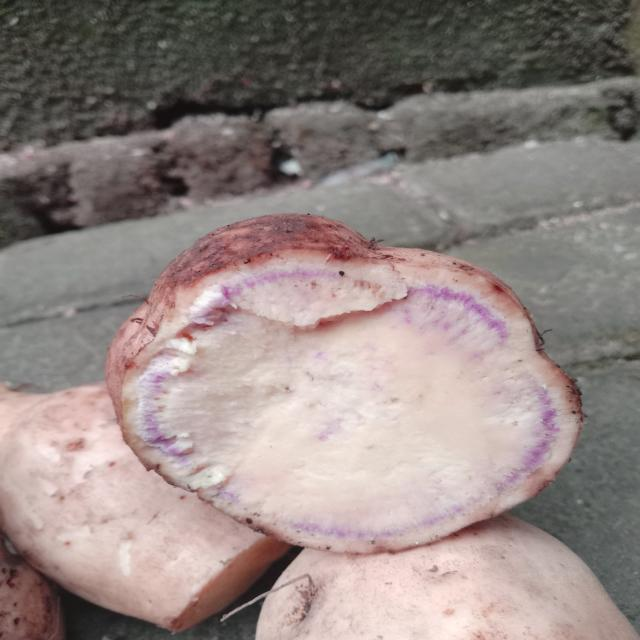Healthy Sweet Potato: (107, 248, 582, 552)
